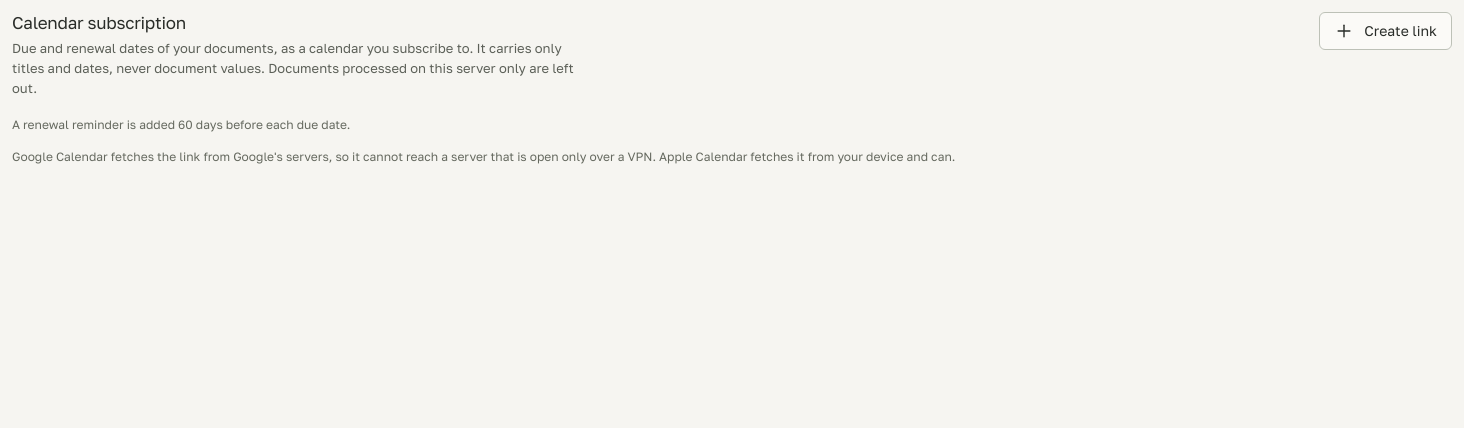
Test: CalendarFeedSection › asks rotate and revoke confirmations with an English Cancel button
Later steps or results of the test are not shown.
Click the button "Create link" at point(1386, 31), box x1=1319 y1=12 x2=1452 y2=50
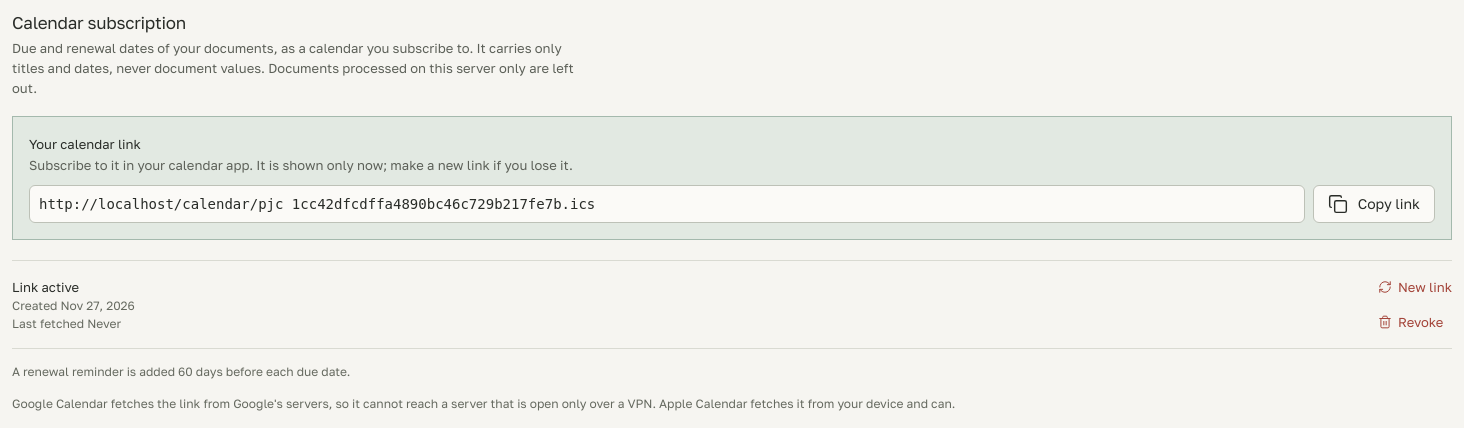
Result: the button "New link" is shown at x1=1378 y1=271 x2=1452 y2=303
